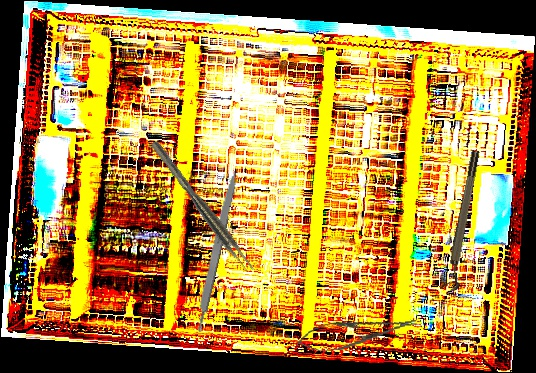Fixation Ring: (440, 149, 488, 293)
Needle Holder: (294, 307, 420, 359)
Scalpel Handle: (191, 167, 240, 336)
Tissue Forceps: (150, 137, 256, 276)
